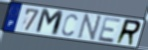7: (24, 8, 40, 32)
C: (61, 13, 79, 37)
E: (97, 16, 123, 44)
M: (34, 8, 65, 38)
N: (75, 13, 103, 43)
R: (114, 18, 143, 47)
